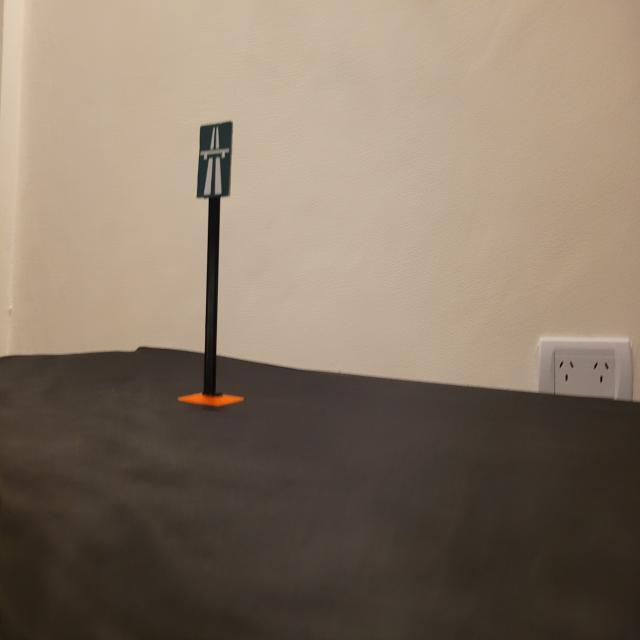highway_entrance: (197, 119, 234, 201)
